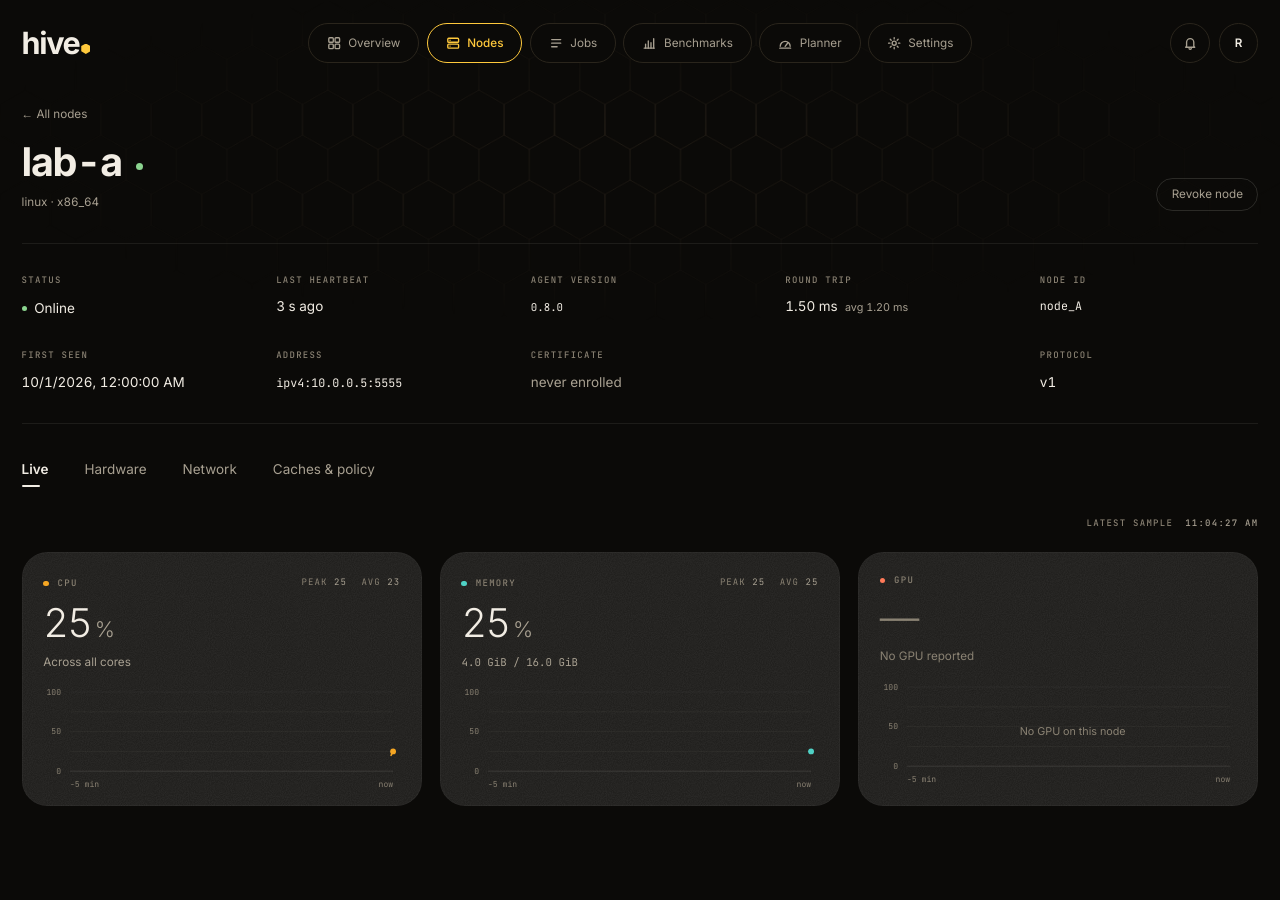
Scenario: Node detail › revoke: armed only by the typed name; CSRF header sent; result toast
This screenshot has width=1280, height=900.
Click the button "Revoke node" at (1207, 194), box x1=1156 y1=178 x2=1258 y2=211
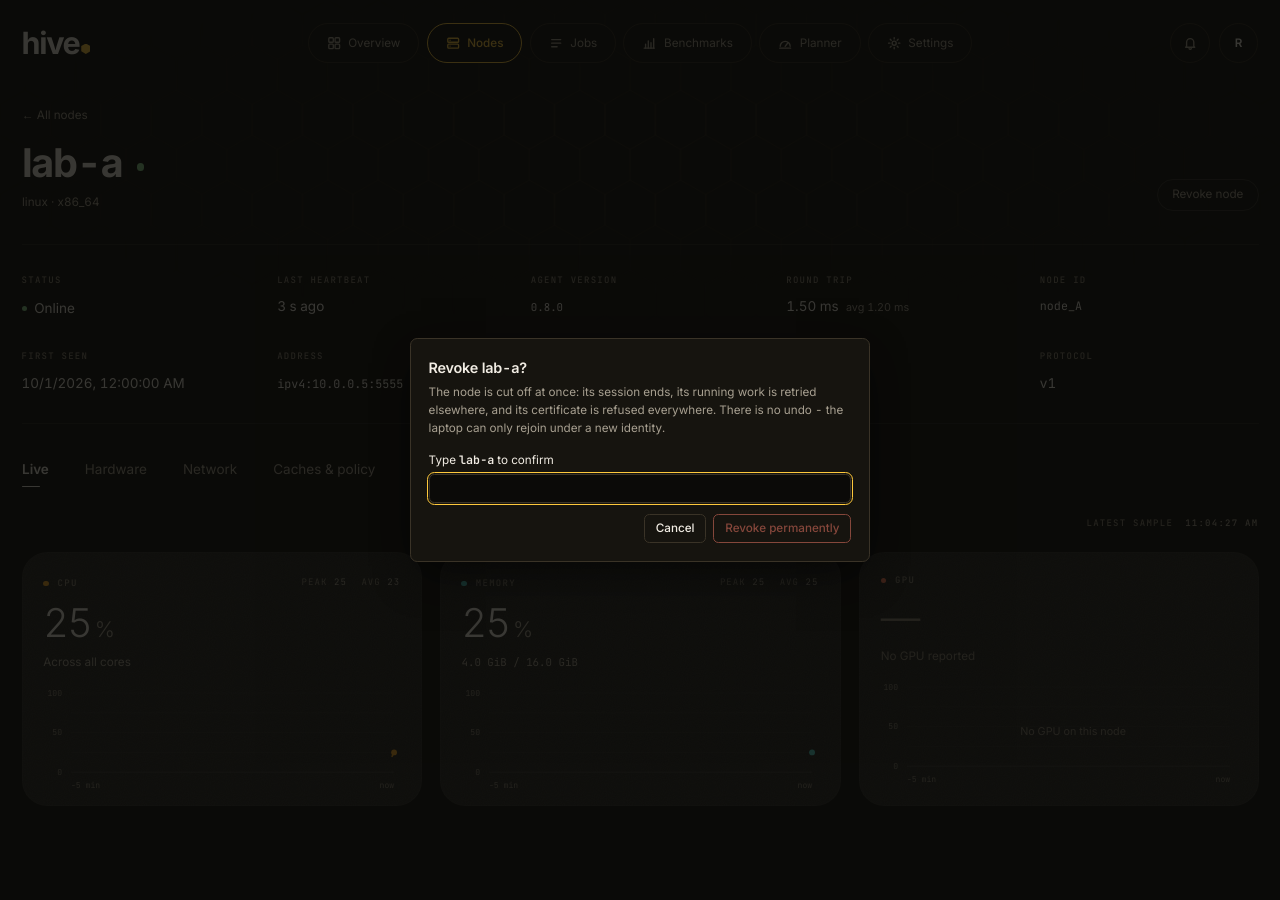
expect the button "Revoke permanently" is disabled: met, box x1=714 y1=514 x2=851 y2=543
Type "lab-" into the field at (640, 489), box x1=429 y1=474 x2=851 y2=503
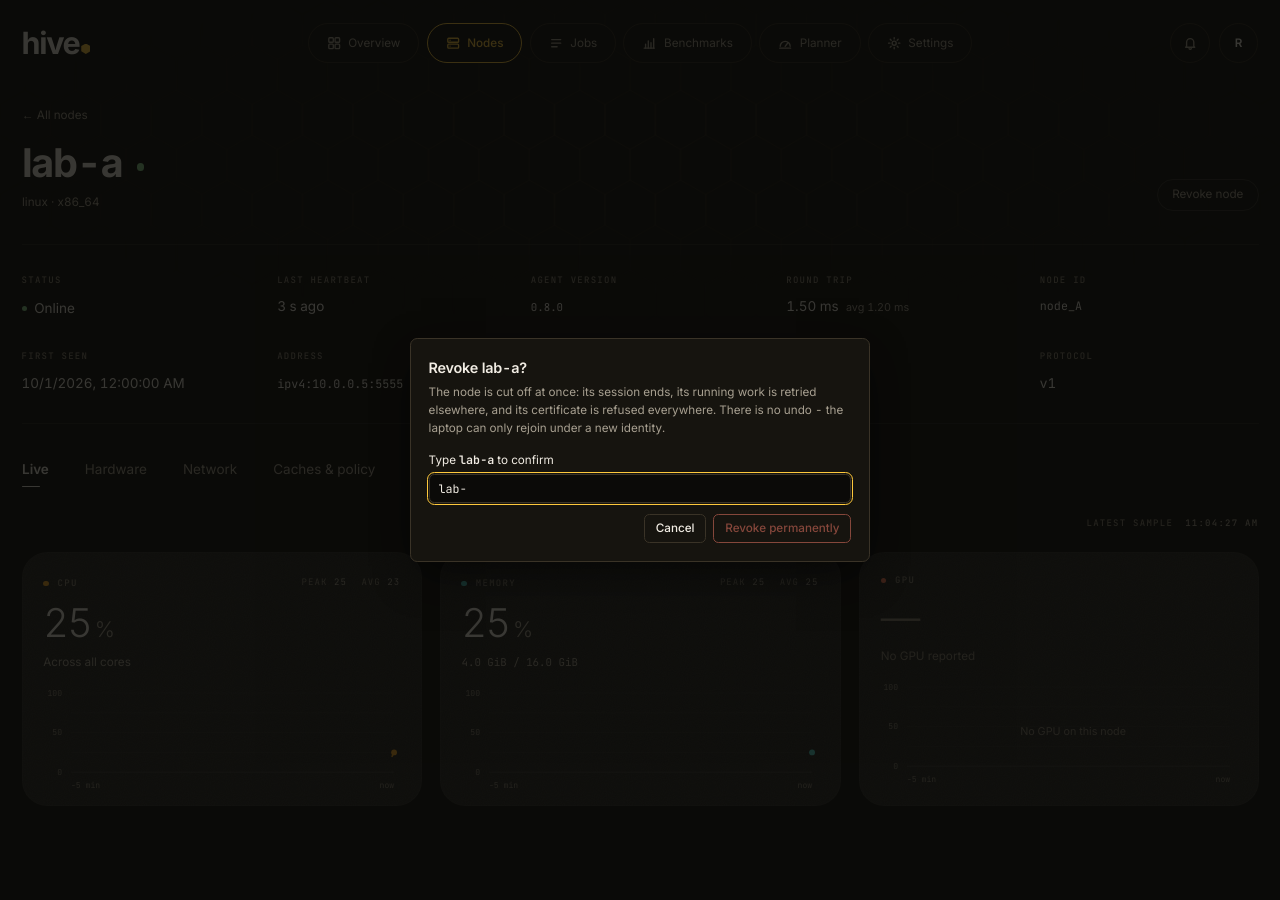
expect the button "Revoke permanently" is disabled: met, box x1=714 y1=514 x2=851 y2=543
Type "a" into the field at (640, 489), box x1=429 y1=474 x2=851 y2=503
Then press Enter
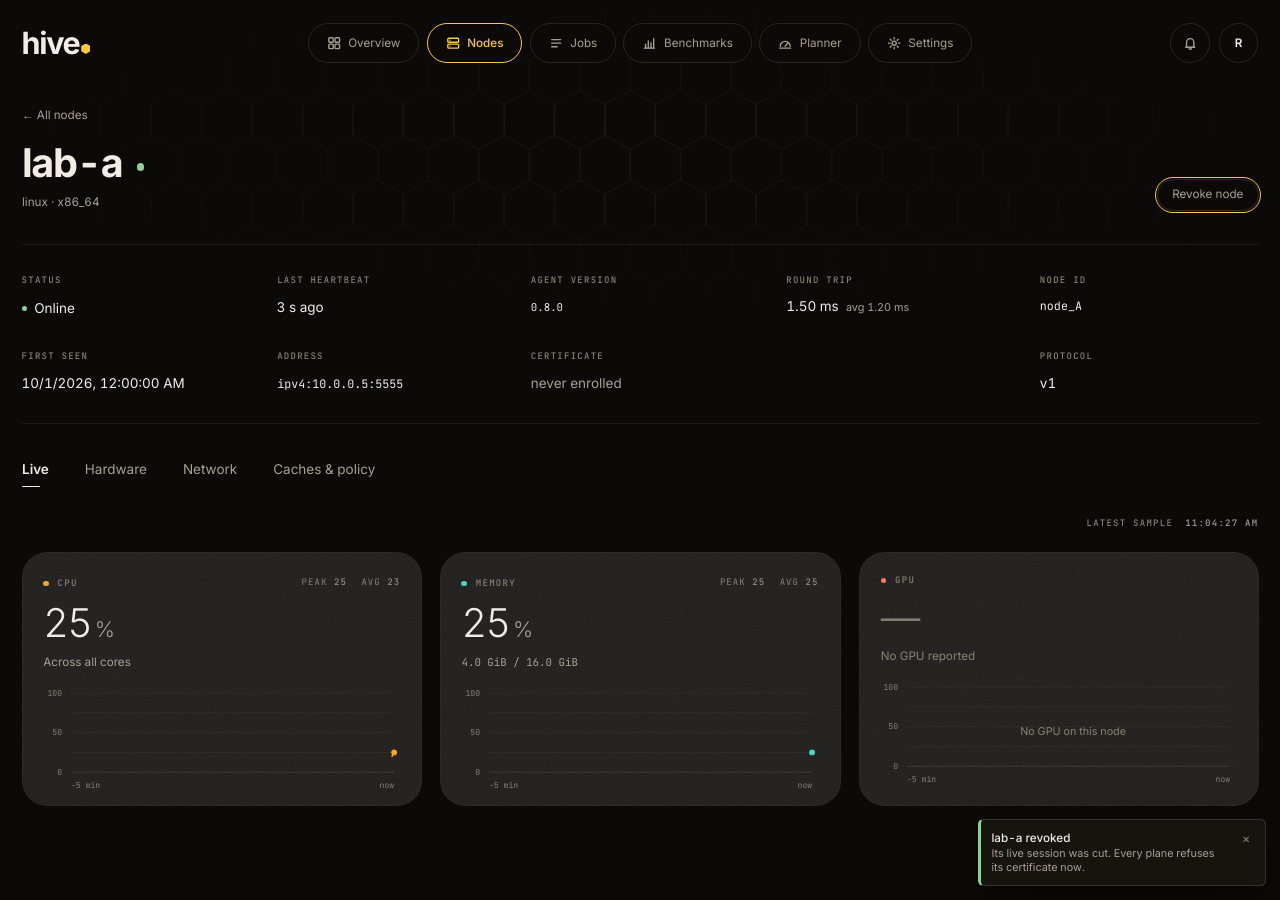
expect the list item "lab-a revoked" is shown: met, box x1=991 y1=831 x2=1070 y2=845
expect the text "Its live session was cut" is shown: met, box x1=991 y1=847 x2=1214 y2=874
